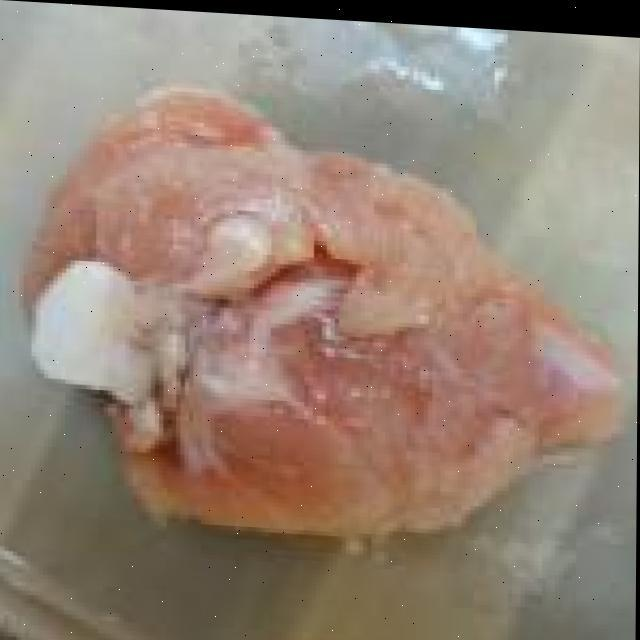breast: (24, 81, 610, 542)
